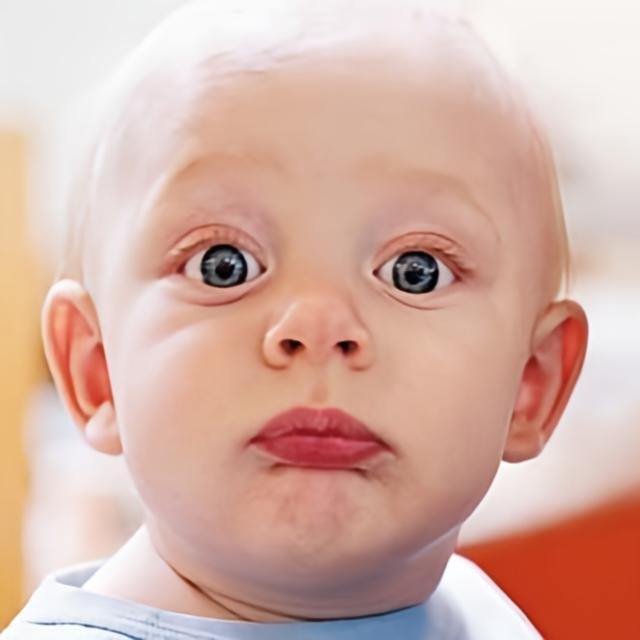surprise: (112, 74, 526, 590)
